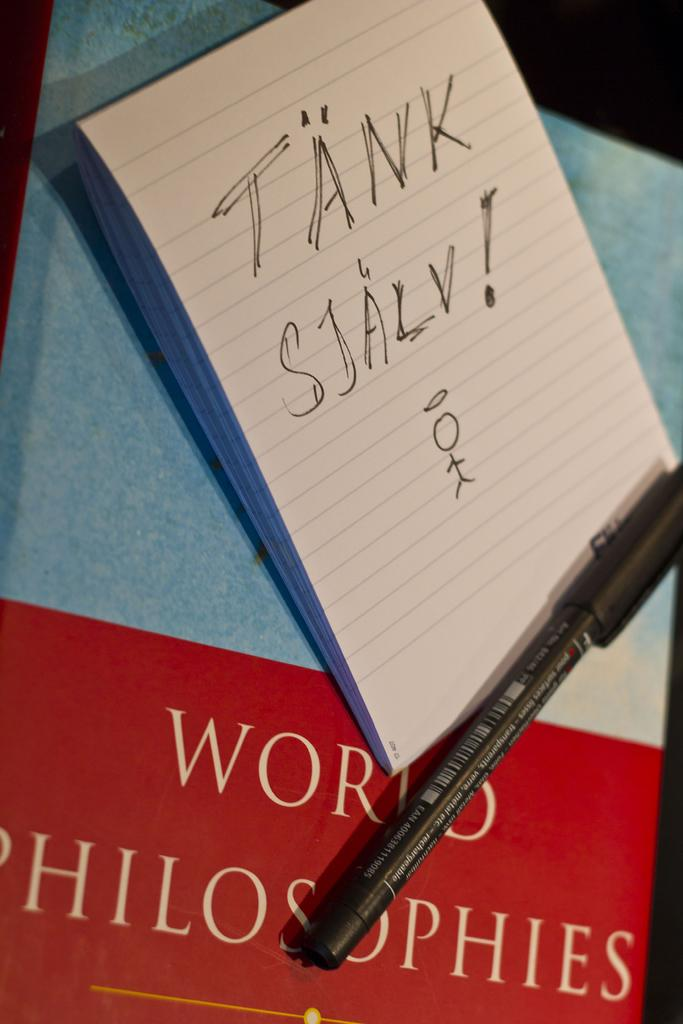pen: (288, 449, 682, 973)
